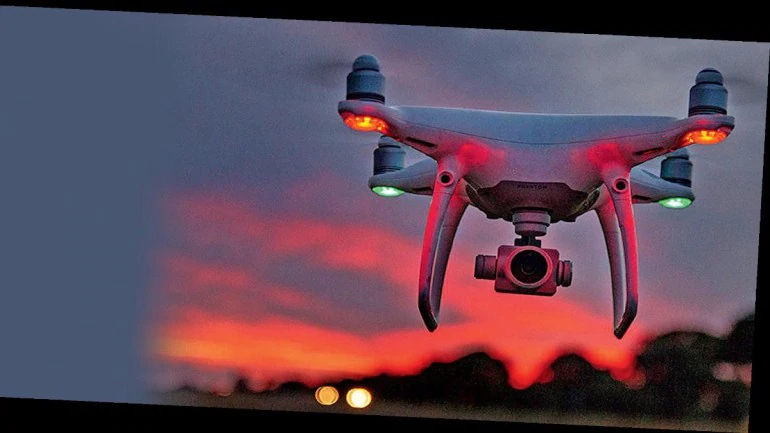drone: (334, 47, 742, 348)
